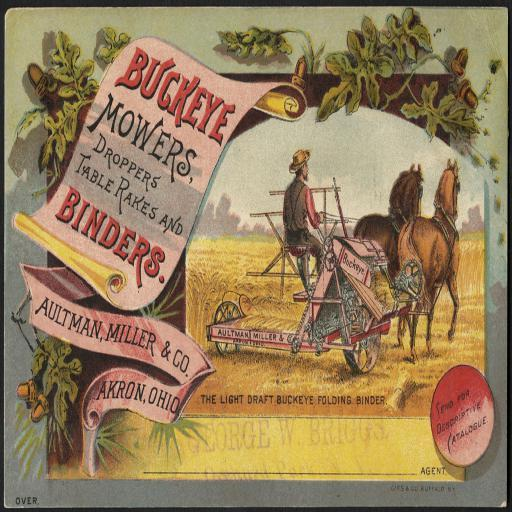Horse: (353, 161, 425, 346), (397, 159, 461, 367)
